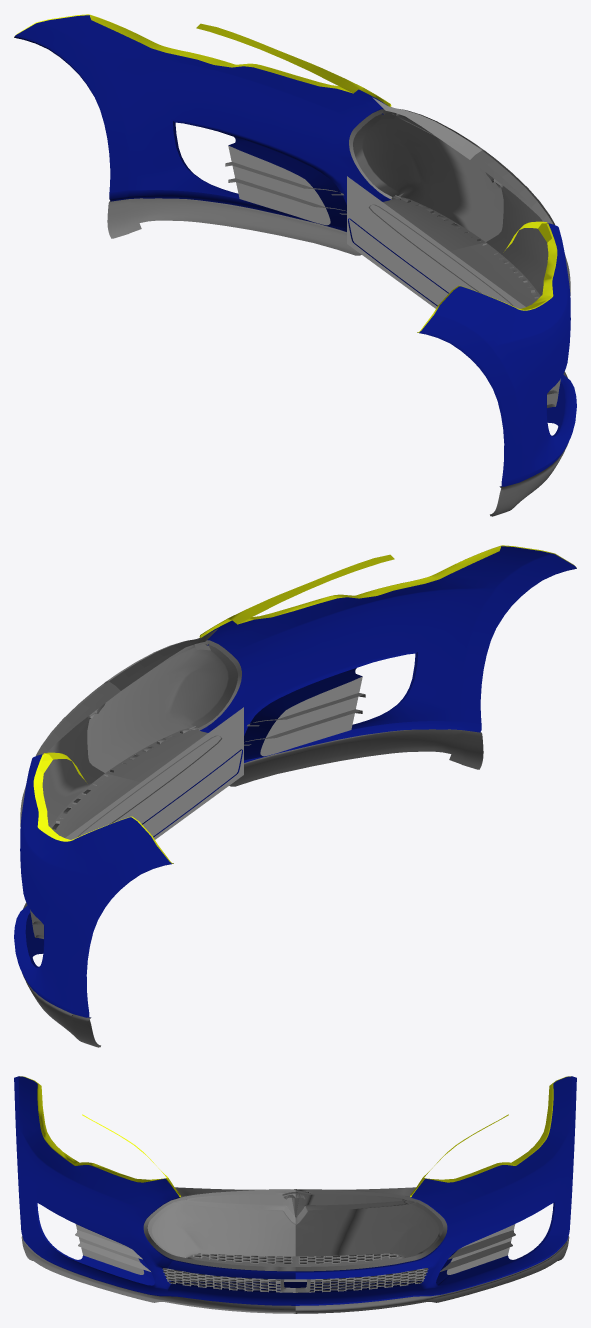
File: Bumper_F_Original.obj
The picture shows the model from 3 angles, top to bottom: view 1: azimuth 30°, elevation 25°; view 2: azimuth 150°, elevation 25°; view 3: azimuth 270°, elevation 25°; orthographic projection. The views are drawn at different scales.
Parts seen in each view (by area): view 1: Bumper_F_Original; view 2: Bumper_F_Original; view 3: Bumper_F_Original.
Part boxes in pixels (x1,y1,x2,y2): Bumper_F_Original: (14,14,576,516); Bumper_F_Original: (14,545,576,1047); Bumper_F_Original: (14,1076,576,1313).
Bounding box in the file's own units: 0.7993 × 0.6163 × 1.93.
